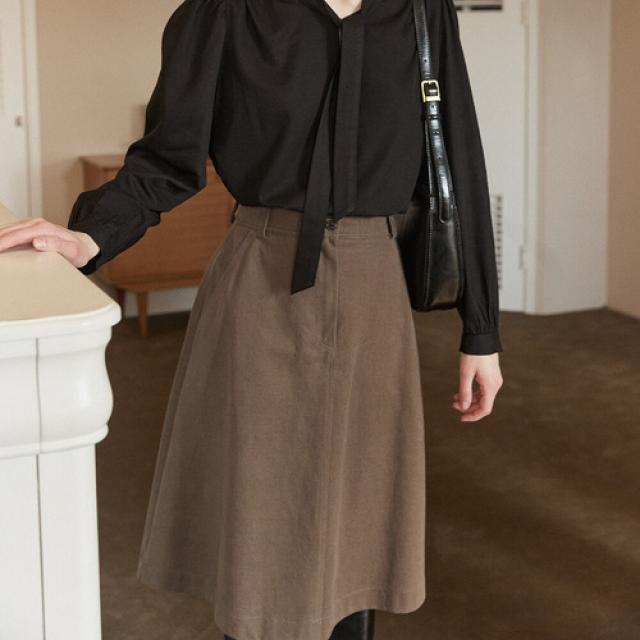dress: (123, 176, 433, 640)
